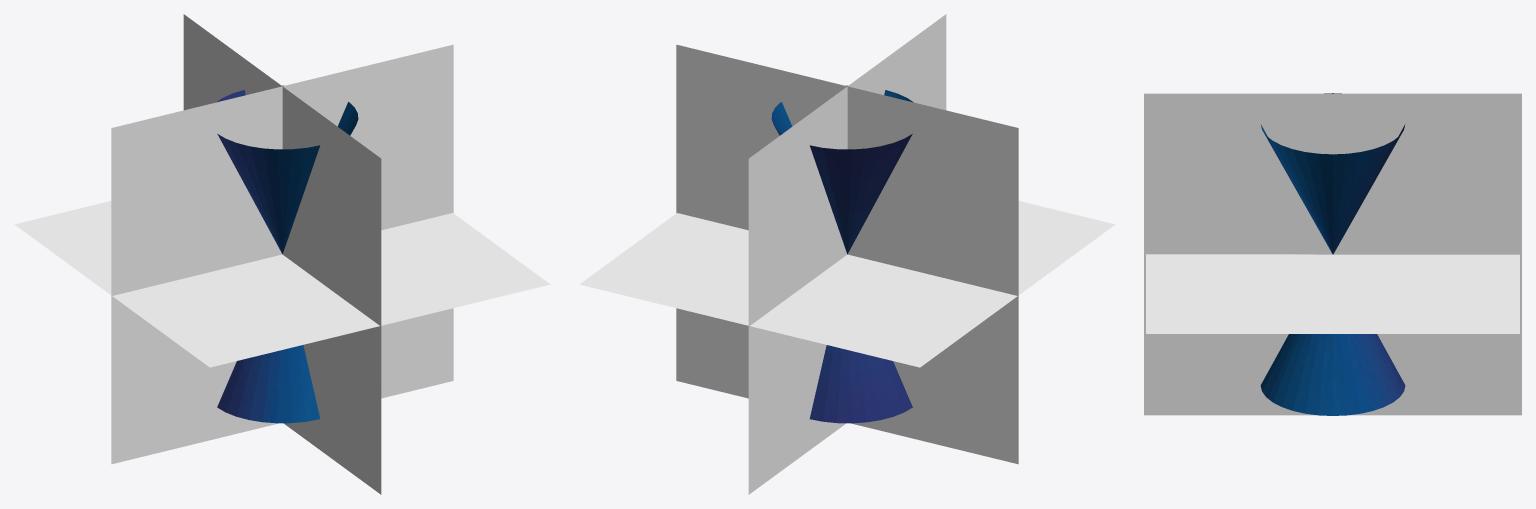
File: Modelneco22.fbx
3 renders of one model, left to right at view 1: azimuth 30°, elevation 25°; view 2: azimuth 150°, elevation 25°; view 3: azimuth 270°, elevation 25°, orthographic. The views are drawn at different scales.
Visible parts, largest first — view 1: Plane.001, Plane, Plane.002, Cone; view 2: Plane.001, Plane, Plane.002, Cone; view 3: Plane.002, Plane, Cone.
Part boxes in pixels (left/top/right/bottom): Plane.001: left=111, top=44, right=453, bottom=464; Plane: left=14, top=201, right=550, bottom=367; Plane.002: left=183, top=14, right=381, bottom=494; Cone: left=216, top=85, right=358, bottom=423; Plane.001: left=676, top=44, right=1018, bottom=464; Plane: left=579, top=201, right=1115, bottom=367; Plane.002: left=748, top=14, right=946, bottom=494; Cone: left=771, top=85, right=913, bottom=423; Plane.002: left=1144, top=93, right=1521, bottom=415; Plane: left=1146, top=254, right=1519, bottom=333; Cone: left=1260, top=93, right=1405, bottom=415.
Size of the model in its own units: 609 by 572 by 609.
4 materials, 1 textured.
